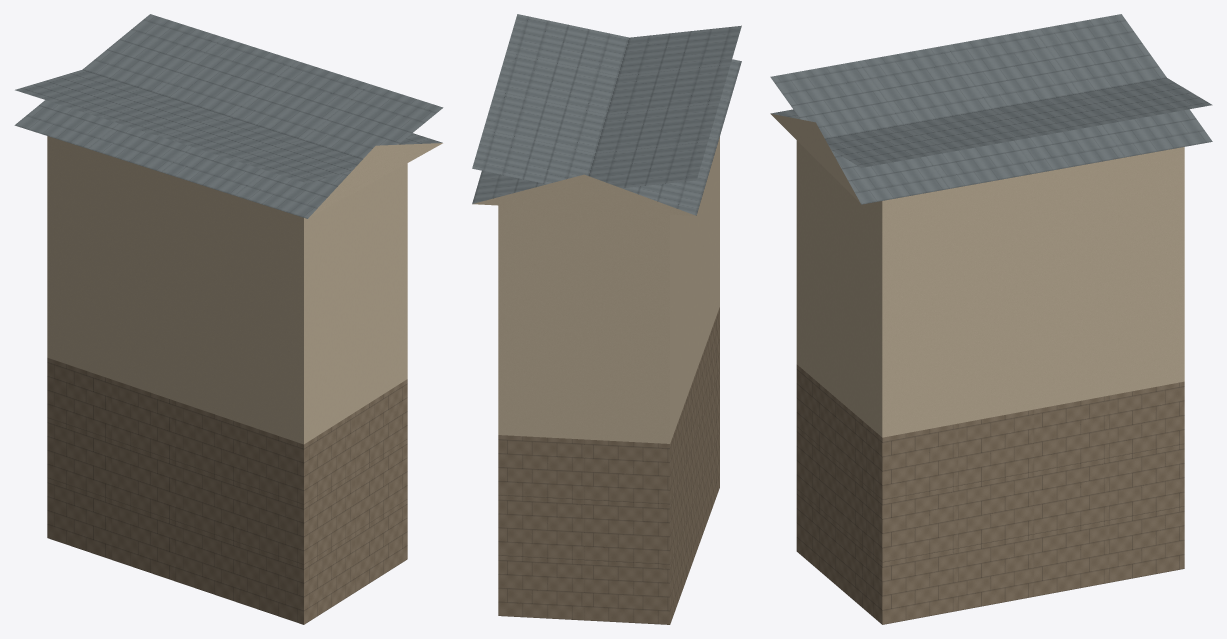
Rendered from bld_c2_-12_652.gltf.
The picture shows the model from 3 angles, left to right: view 1: azimuth 30°, elevation 25°; view 2: azimuth 150°, elevation 25°; view 3: azimuth 270°, elevation 25°; orthographic projection. The views are drawn at different scales.
Visible parts, largest first — view 1: bld_c2_-12_652; view 2: bld_c2_-12_652; view 3: bld_c2_-12_652.
Boxes of the visible parts, bbox=[...] form: bld_c2_-12_652: bbox=[14, 14, 443, 624]; bld_c2_-12_652: bbox=[472, 14, 741, 624]; bld_c2_-12_652: bbox=[770, 14, 1212, 624].
Size of the model in its own units: 8.99 by 12.8 by 10.92.
4 materials, 4 textured.
